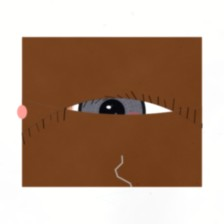foreign_body_visible: (22, 96, 65, 130)
